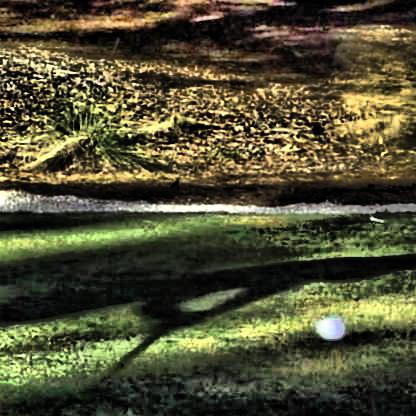golfball: (314, 315, 343, 339)
